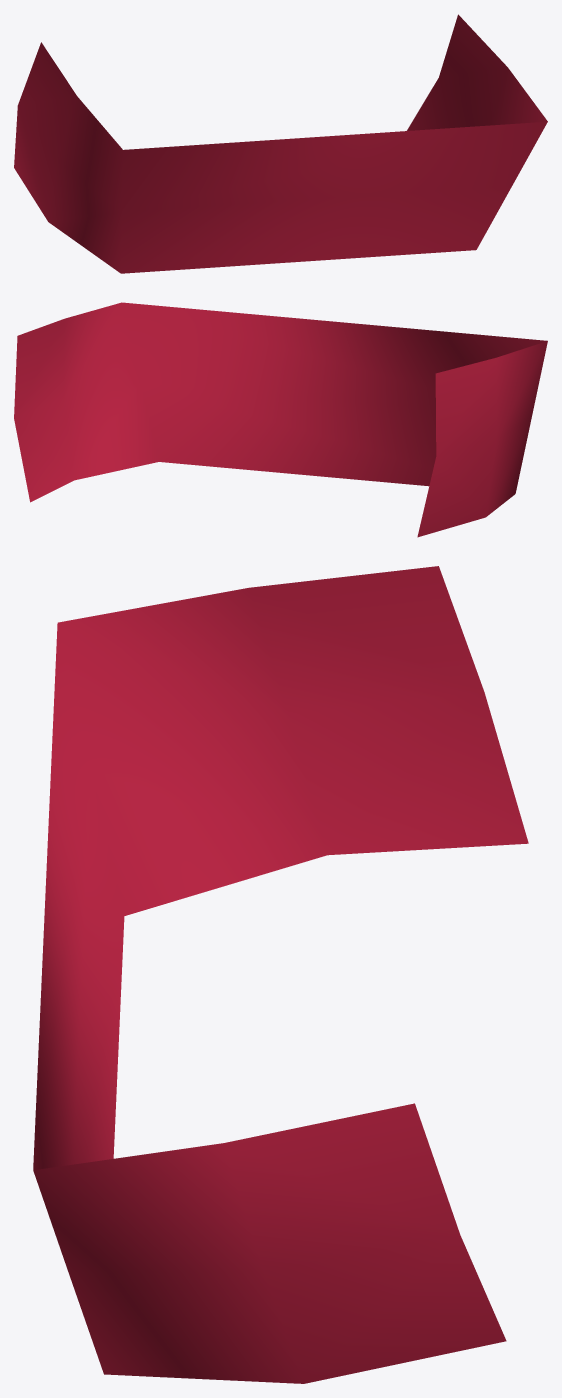
3 renders of one model, top to bottom at view 1: azimuth 30°, elevation 25°; view 2: azimuth 150°, elevation 25°; view 3: azimuth 270°, elevation 25°, orthographic. The views are drawn at different scales.
Parts seen in each view (by area): view 1: ef_461; view 2: ef_461; view 3: ef_461.
Part boxes in pixels (box(x1,y1,x2,y2)): ef_461: box(14, 14, 547, 273); ef_461: box(14, 302, 547, 537); ef_461: box(33, 566, 528, 1383).
Size of the model in its own units: 0.9341 by 0.4781 by 0.4615.
Materials: 1 (1 with a texture image).
